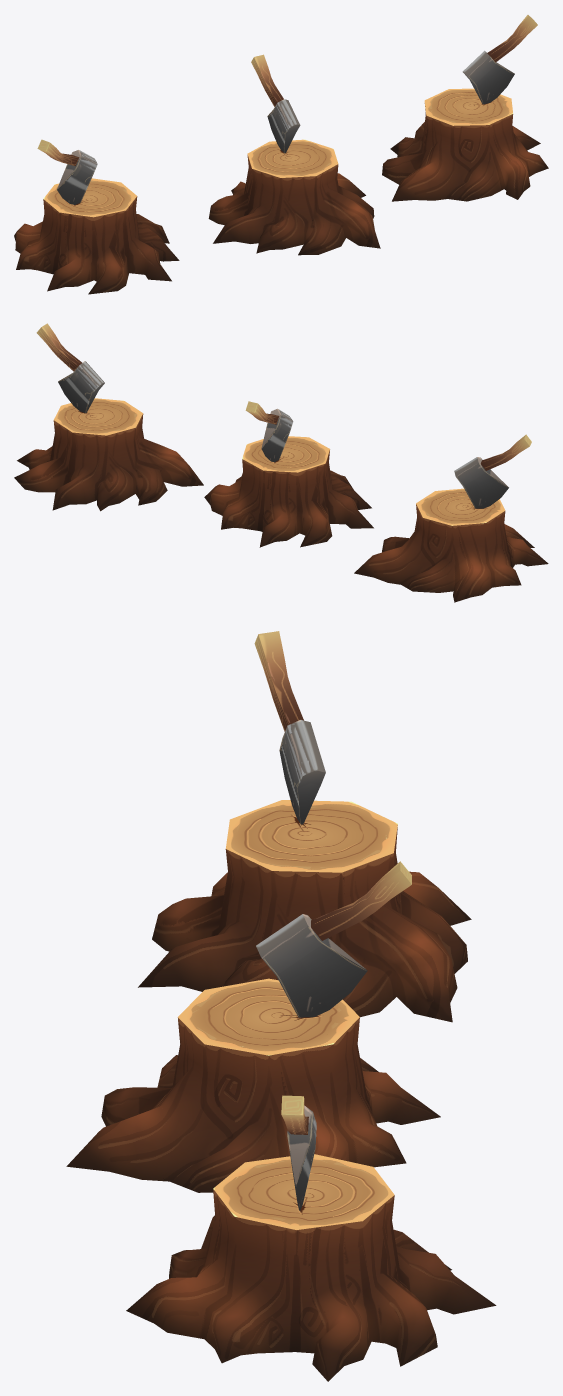
The model's file is wood_stump.glb.
3 views of the same model, one above another, from view 1: azimuth 30°, elevation 25°; view 2: azimuth 150°, elevation 25°; view 3: azimuth 270°, elevation 25° (orthographic). The views are drawn at different scales.
Visible parts, largest first — view 1: Axe.002, Axe.004, wood, wood.001, Axe.001, Axe.000; view 2: Axe.002, Axe.004, wood, wood.001, Axe.001, Axe.000; view 3: Axe.002, Axe.004, wood, wood.001, Axe.001, Axe.000.
Boxes of the visible parts, <box> form: Axe.002: <box>382,15,548,201</box>; Axe.004: <box>14,139,179,294</box>; wood: <box>208,155,380,255</box>; wood.001: <box>247,139,338,177</box>; Axe.001: <box>267,99,300,153</box>; Axe.000: <box>251,54,283,106</box>; Axe.002: <box>14,323,203,511</box>; Axe.004: <box>354,434,548,602</box>; wood: <box>204,450,373,547</box>; wood.001: <box>242,436,329,472</box>; Axe.001: <box>261,408,293,462</box>; Axe.000: <box>245,401,279,424</box>; Axe.002: <box>126,1095,496,1381</box>; Axe.004: <box>138,631,471,1022</box>; wood: <box>66,1017,440,1192</box>; wood.001: <box>178,978,359,1055</box>; Axe.001: <box>256,914,367,1017</box>; Axe.000: <box>311,861,411,940</box>.
Bounding box in the file's own units: 18.2 × 4.59 × 6.7.
1 material, 1 textured.
